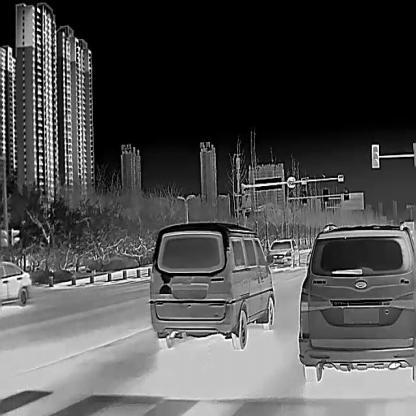car: (296, 222, 416, 382), (148, 220, 274, 349), (0, 260, 31, 305), (265, 237, 299, 269)
truck: (404, 220, 414, 232)
